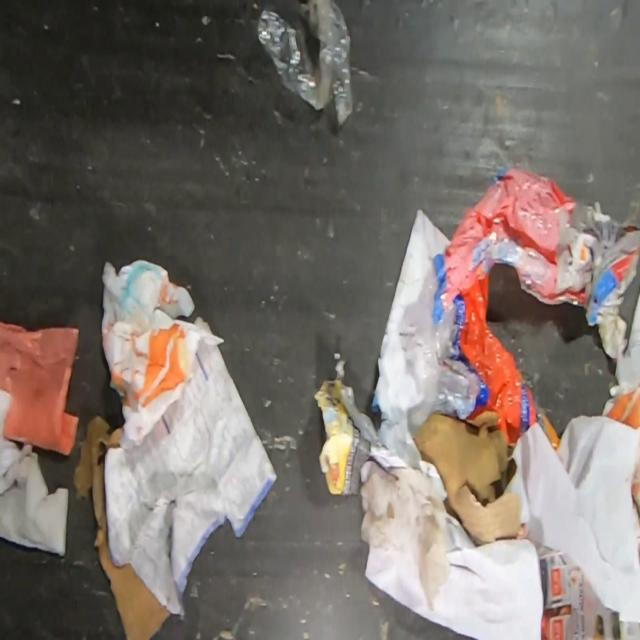cardboard: (69, 414, 171, 640), (412, 409, 522, 547)
soft_plastic: (418, 163, 592, 452), (250, 0, 357, 123)
